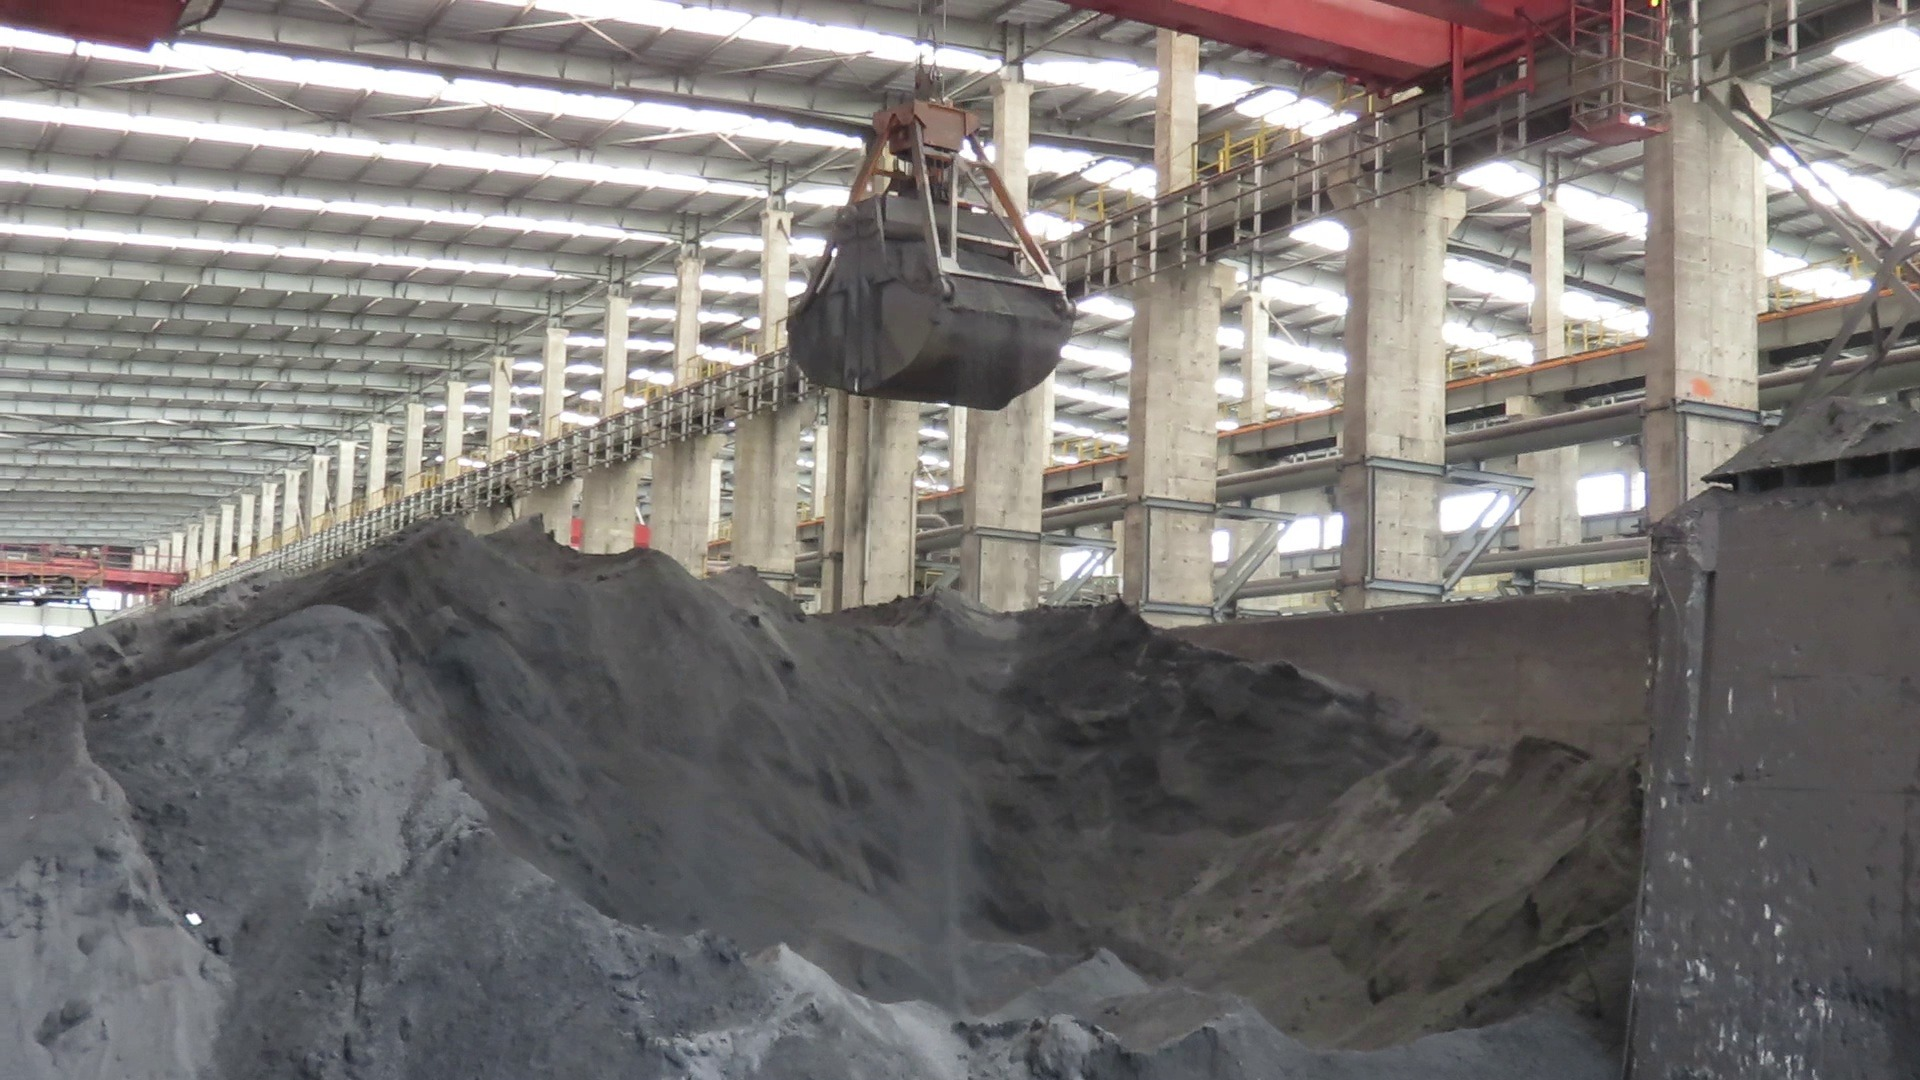grab: (781, 70, 1081, 413)
